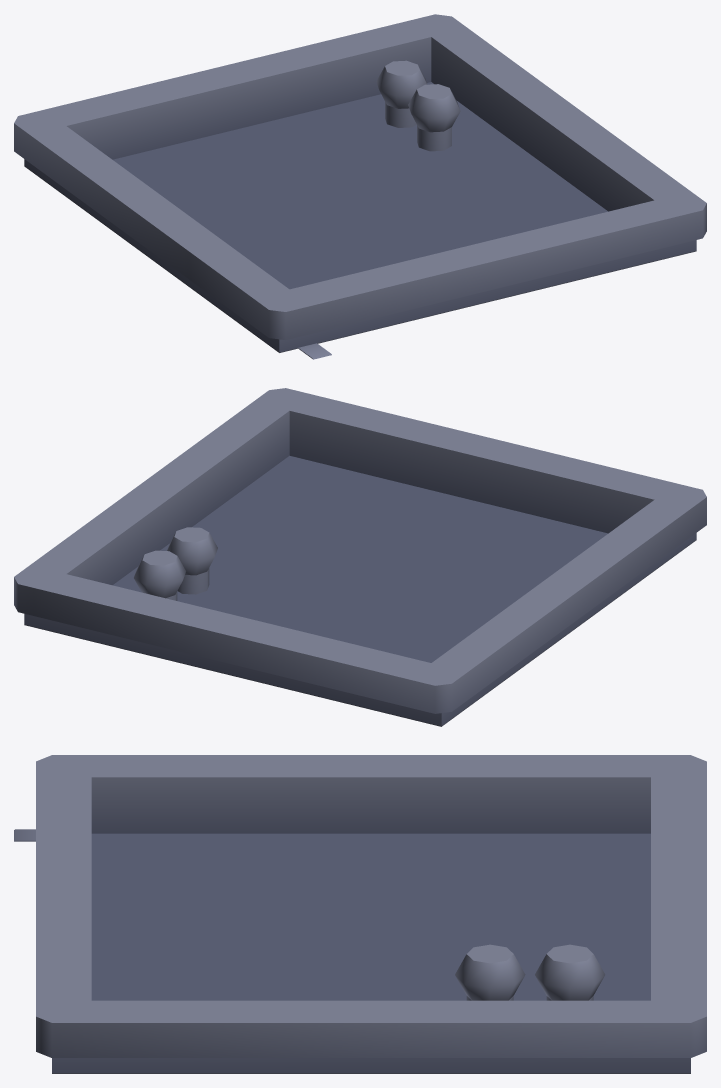
Rendered from commercial-h.glb.
3 renders of one model, top to bottom at view 1: azimuth 30°, elevation 25°; view 2: azimuth 150°, elevation 25°; view 3: azimuth 270°, elevation 25°, orthographic. The views are drawn at different scales.
Parts seen in each view (by area): view 1: building-h; view 2: building-h; view 3: building-h.
Part boxes in pixels (x1,y1,x2,y2): building-h: (14,14,706,359); building-h: (14,388,706,726); building-h: (14,755,706,1073).
Size of the model in its own units: 11.67 by 1.35 by 12.76.
Materials: 1 (1 with a texture image).
